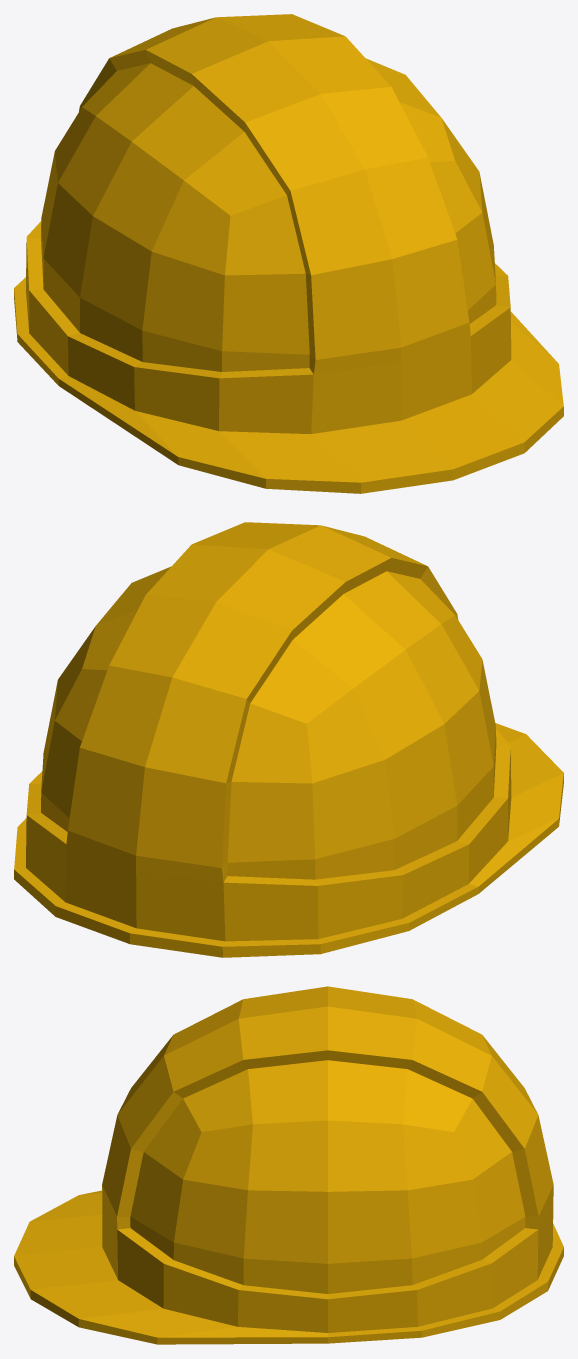
The model's file is ConstructionHatLowPoly.fbx.
The picture shows the model from 3 angles, top to bottom: view 1: azimuth 30°, elevation 25°; view 2: azimuth 150°, elevation 25°; view 3: azimuth 270°, elevation 25°; orthographic projection. The views are drawn at different scales.
Parts seen in each view (by area): view 1: Cube; view 2: Cube; view 3: Cube.
Part boxes in pixels (x1=…): Cube: x1=14, y1=14, x2=563, y2=493; Cube: x1=14, y1=522, x2=563, y2=957; Cube: x1=14, y1=986, x2=563, y2=1344.
Bounding box in the file's own units: 187 × 129 × 249.
